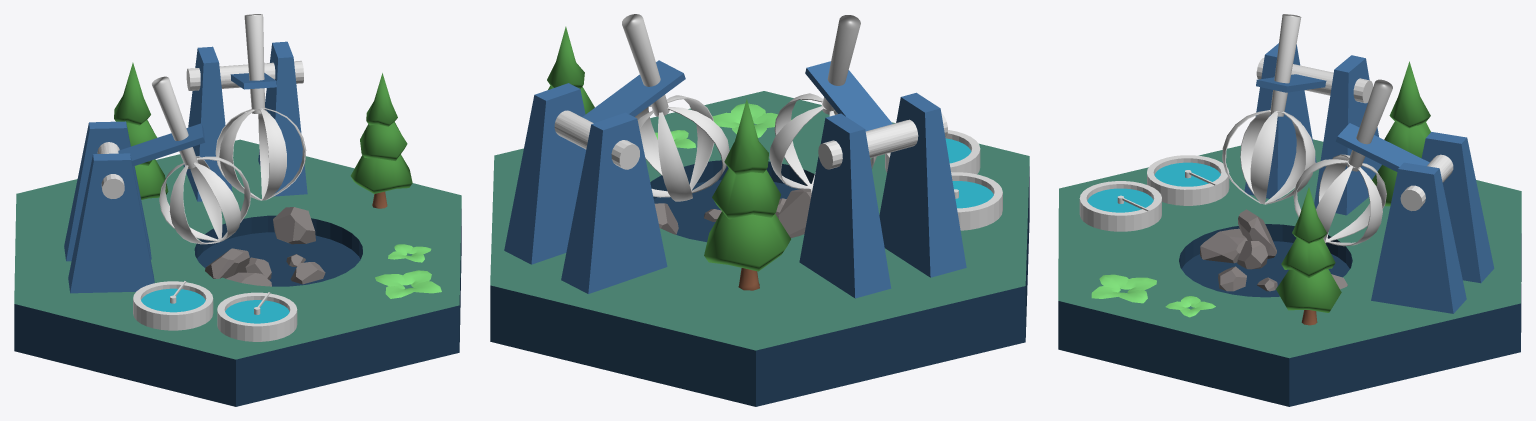
File: Macro - Mineral lvl 2 WM2 rev.fbx
The picture shows the model from 3 angles, left to right: view 1: azimuth 30°, elevation 25°; view 2: azimuth 150°, elevation 25°; view 3: azimuth 270°, elevation 25°; orthographic projection. The views are drawn at different scales.
Parts seen in each view (by area): view 1: Cylinder.011, Cube.008, Tree_Spruce_tiny_01.001, Circle.003, Circle.002, Cube.004, Cube.005, Tree_Spruce_tiny_01.002, Cube.009, Cylinder.074, Cylinder.082, Rock Type2 02 mesh.002 (+12 smaller); view 2: Cylinder.011, Cube.005, Cube.009, Cube.008, Cube.004, Tree_Spruce_tiny_01.002, Circle.002, Cube.007, Circle.003, Cube.006, Cylinder.007, Cylinder.005 (+9 smaller); view 3: Cylinder.011, Cube.004, Cube.005, Tree_Spruce_tiny_01.001, Circle.003, Cube.009, Circle.002, Cube.008, Tree_Spruce_tiny_01.002, Rock Type2 02 mesh.002, Cylinder.082, Cylinder.074 (+11 smaller).
Part boxes in pixels (bbox=[...]): Cylinder.011: bbox=[14, 139, 461, 406]; Cube.008: bbox=[68, 153, 154, 293]; Tree_Spruce_tiny_01.001: bbox=[350, 73, 412, 208]; Circle.003: bbox=[159, 156, 250, 244]; Circle.002: bbox=[215, 108, 306, 200]; Cube.004: bbox=[258, 41, 307, 196]; Cube.005: bbox=[183, 46, 232, 201]; Tree_Spruce_tiny_01.002: bbox=[114, 62, 168, 199]; Cube.009: bbox=[64, 121, 151, 261]; Cylinder.074: bbox=[133, 281, 213, 330]; Cylinder.082: bbox=[217, 292, 297, 341]; Rock Type2 02 mesh.002: bbox=[205, 248, 271, 286]; Cylinder.011: bbox=[490, 91, 1029, 406]; Cube.005: bbox=[561, 112, 667, 293]; Cube.009: bbox=[799, 113, 891, 298]; Cube.008: bbox=[879, 92, 966, 277]; Cube.004: bbox=[504, 83, 585, 264]; Tree_Spruce_tiny_01.002: bbox=[704, 98, 790, 290]; Circle.002: bbox=[635, 95, 729, 201]; Cube.007: bbox=[805, 61, 892, 131]; Circle.003: bbox=[769, 93, 876, 193]; Cube.006: bbox=[582, 60, 685, 123]; Cylinder.007: bbox=[818, 113, 947, 169]; Cylinder.005: bbox=[622, 14, 669, 116]; Cylinder.011: bbox=[1058, 139, 1521, 406]; Cube.004: bbox=[1371, 162, 1466, 313]; Cube.005: bbox=[1421, 132, 1494, 283]; Tree_Spruce_tiny_01.001: bbox=[1276, 187, 1341, 325]; Circle.003: bbox=[1222, 109, 1315, 204]; Cube.009: bbox=[1314, 55, 1381, 215]; Circle.002: bbox=[1293, 154, 1386, 246]; Cube.008: bbox=[1244, 43, 1316, 200]; Tree_Spruce_tiny_01.002: bbox=[1372, 61, 1430, 206]; Rock Type2 02 mesh.002: bbox=[1200, 209, 1276, 269]; Cylinder.082: bbox=[1079, 181, 1161, 231]; Cylinder.074: bbox=[1147, 155, 1229, 205].
Bounding box in the file's own units: 197 × 99.74 × 172.
